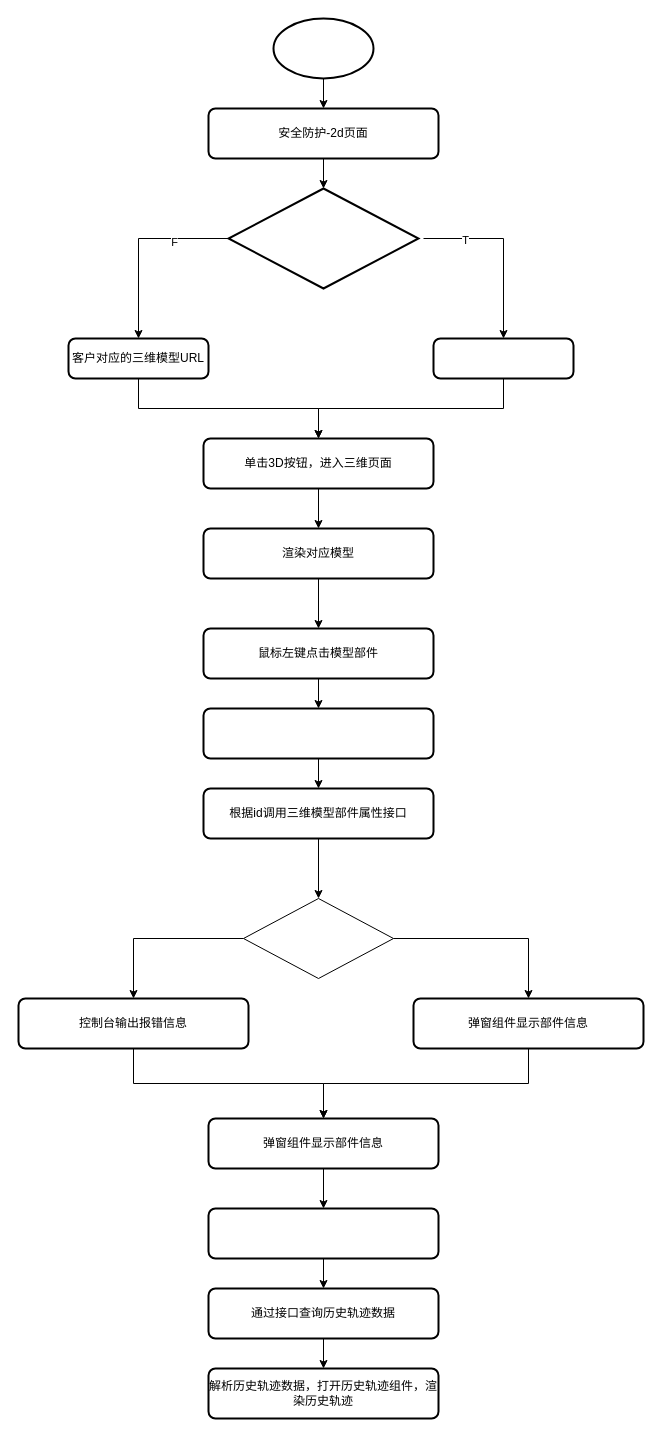
The diagram is 661 pixels wide and 1436 high, and some of its shapes have lost their labels. Each missing label, with the centre of its shape:
三维模型展示流程: point (323, 48)
接口查询成功: point (318, 938)
服务端判断当前客户是否有配置的三维底图模型: point (323, 238)
点击历史轨迹按钮: point (323, 1233)
获取对应部件id(三维模型中独有的，不与二维图层有关联): point (318, 733)
部门配置的模型URL: point (503, 358)
